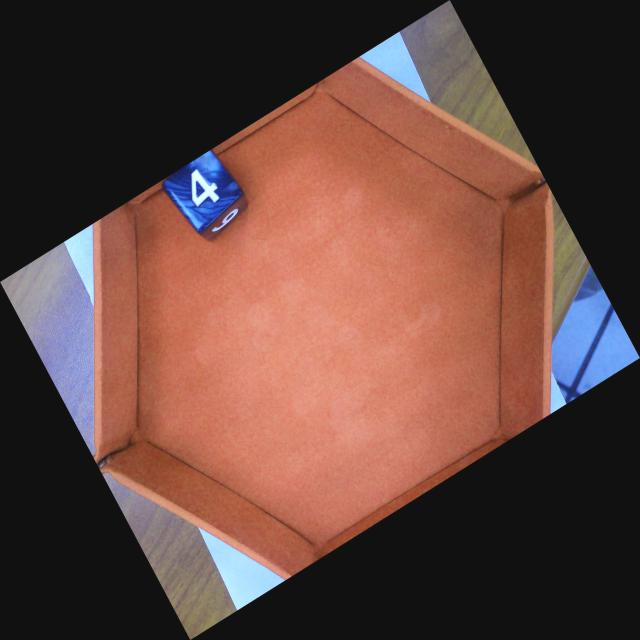dice: (158, 148, 246, 238)
